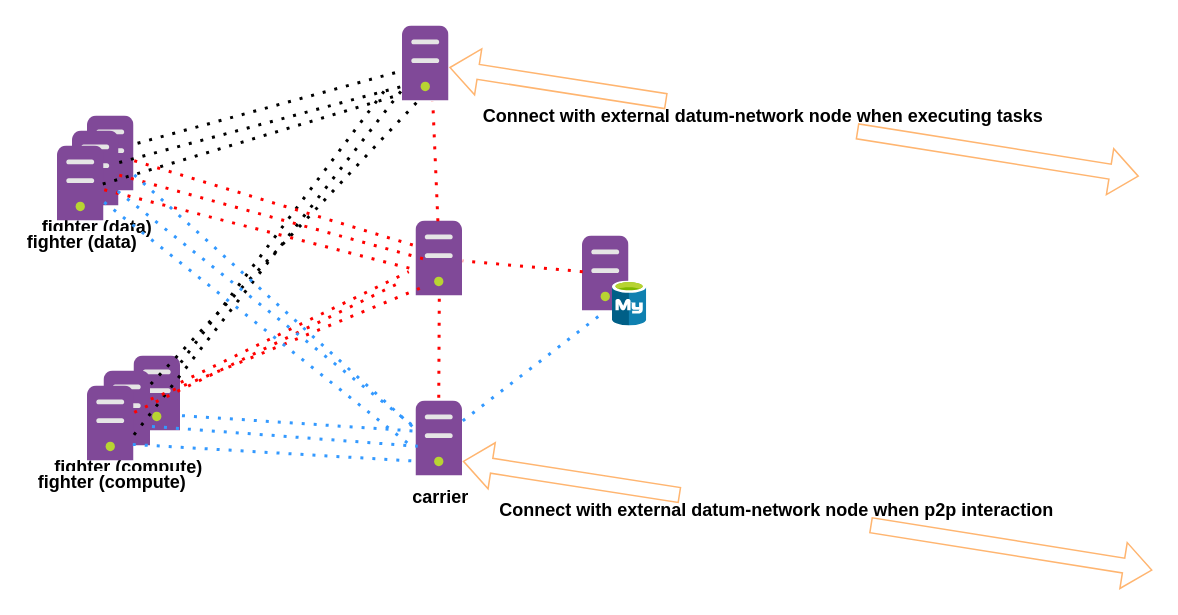
This 1178x615 diagram has some shape labels left out. The centre of each missing label's shape, as x and y in pixels:
admin: the point at 605,273
consul: the point at 439,258
via (ice): the point at 425,63
